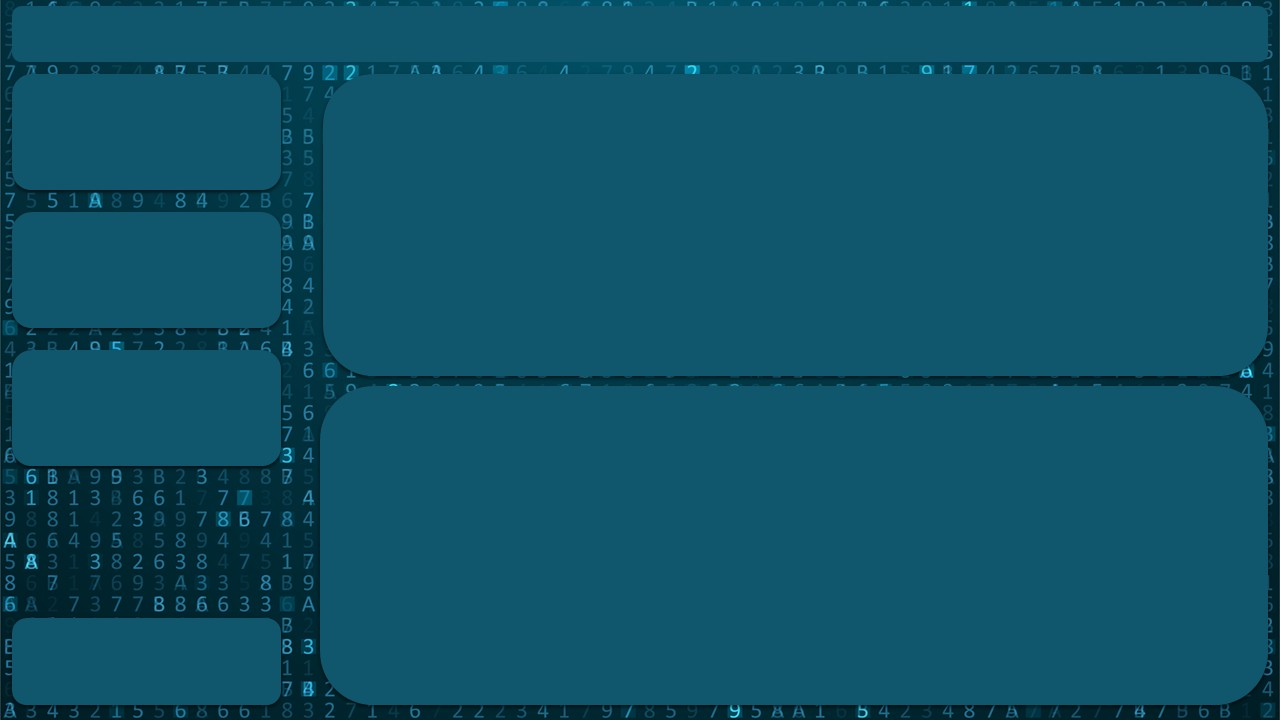

The page's visual inventory and layout, read from the dashboard file:
{"tool":"powerbi","page":{"name":"Page 1","canvas":[1280,720],"ordinal":0},"visuals":[{"type":"tableEx","fields":{"Values":["Groups.Group Name","Sum(Group Fact.Total)"]},"box":[10.1,0,1269.5,708],"z":0}]}

Visuals, with their boxes in screenshot pixels (x1, y1, x2, y2), scaled from the page's 1280x720 canvas onto the 1280x720 screenshot:
tableEx - Groups.Group Name x Sum(Group Fact.Total): x1=10 y1=0 x2=1279 y2=708
